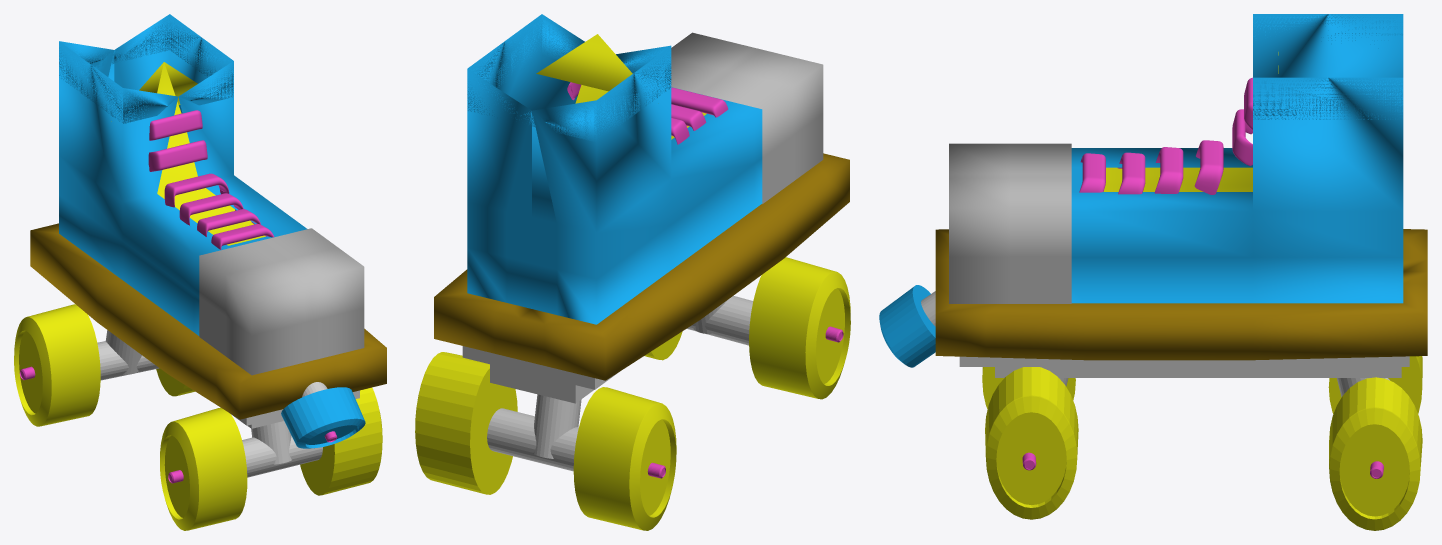
File: nietkwijtraken.gltf
3 renders of one model, left to right at view 1: azimuth 30°, elevation 25°; view 2: azimuth 150°, elevation 25°; view 3: azimuth 270°, elevation 25°, orthographic. The views are drawn at different scales.
Parts seen in each view (by area): view 1: Plane, Plane.002, Cylinder.007, Cylinder.010, Cylinder.004, Cylinder.002, Plane.001, Cylinder.001, NurbsPath.004, NurbsPath.005, Cylinder.006, Cylinder.009 (+6 smaller); view 2: Plane, Plane.002, Cylinder.010, Cylinder.007, Cylinder.013, Plane.001, Cylinder.009, Cylinder.012, Cube.001, Cube, Cylinder.001, NurbsPath (+1 smaller); view 3: Plane, Plane.002, Cylinder.013, Cylinder.004, Cube.001, Cube, Cylinder.002, Plane.001, NurbsPath.003, Cylinder.010, NurbsPath.002, NurbsPath.001 (+3 smaller).
Boxes of the visible parts, left/top/right/bottom form: Plane: left=30, top=14, right=386, bottom=419; Plane.002: left=199, top=228, right=364, bottom=375; Cylinder.007: left=160, top=407, right=247, bottom=530; Cylinder.010: left=14, top=304, right=100, bottom=426; Cylinder.004: left=300, top=387, right=382, bottom=495; Cylinder.002: left=281, top=387, right=365, bottom=448; Plane.001: left=111, top=62, right=265, bottom=245; Cylinder.001: left=242, top=436, right=322, bottom=477; NurbsPath.004: left=148, top=140, right=207, bottom=171; NurbsPath.005: left=149, top=110, right=202, bottom=140; Cylinder.006: left=251, top=421, right=291, bottom=464; Cylinder.009: left=97, top=341, right=159, bottom=380; Plane: left=434, top=14, right=849, bottom=380; Plane.002: left=671, top=32, right=823, bottom=203; Cylinder.010: left=573, top=387, right=676, bottom=530; Cylinder.007: left=749, top=257, right=850, bottom=399; Cylinder.013: left=415, top=352, right=517, bottom=494; Plane.001: left=536, top=34, right=706, bottom=139; Cylinder.009: left=487, top=408, right=578, bottom=471; Cylinder.012: left=533, top=394, right=581, bottom=458; Cube.001: left=490, top=364, right=593, bottom=403; Cube: left=462, top=346, right=618, bottom=389; Cylinder.001: left=687, top=296, right=753, bottom=345; NurbsPath: left=671, top=87, right=728, bottom=117; Plane: left=935, top=14, right=1427, bottom=360; Plane.002: left=949, top=143, right=1071, bottom=303; Cylinder.013: left=1329, top=377, right=1422, bottom=530; Cylinder.004: left=985, top=367, right=1078, bottom=519; Cube.001: left=995, top=367, right=1401, bottom=377; Cube: left=959, top=356, right=1409, bottom=366; Cylinder.002: left=879, top=285, right=935, bottom=367; Plane.001: left=1103, top=52, right=1278, bottom=191; NurbsPath.003: left=1194, top=140, right=1223, bottom=194; Cylinder.010: left=1328, top=356, right=1422, bottom=413; NurbsPath.002: left=1154, top=147, right=1183, bottom=193; NurbsPath.001: left=1118, top=152, right=1145, bottom=194.
Bounding box in the file's own units: 1.68 × 2.91 × 3.29.
